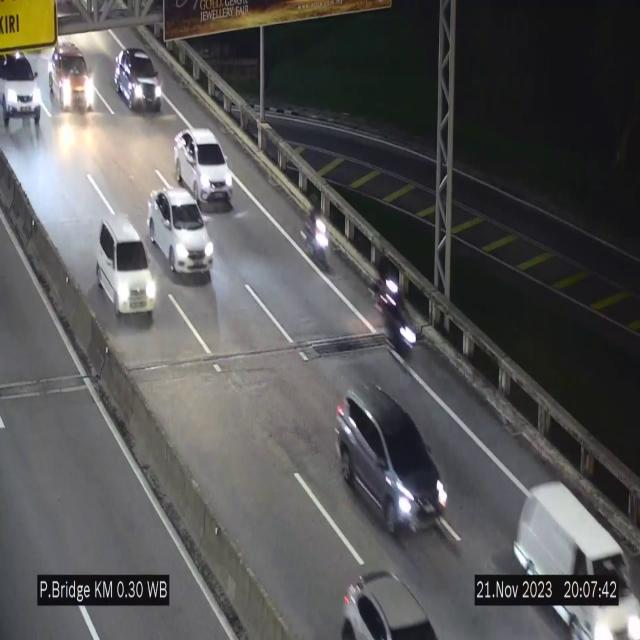Car: (504, 456, 640, 640), (336, 383, 450, 548), (332, 564, 451, 640), (97, 215, 157, 317), (148, 186, 213, 277), (175, 128, 233, 205), (0, 47, 45, 141), (48, 40, 96, 116), (114, 47, 163, 112)
Motorcycle: (374, 244, 406, 316), (308, 207, 334, 277), (393, 298, 417, 366)
